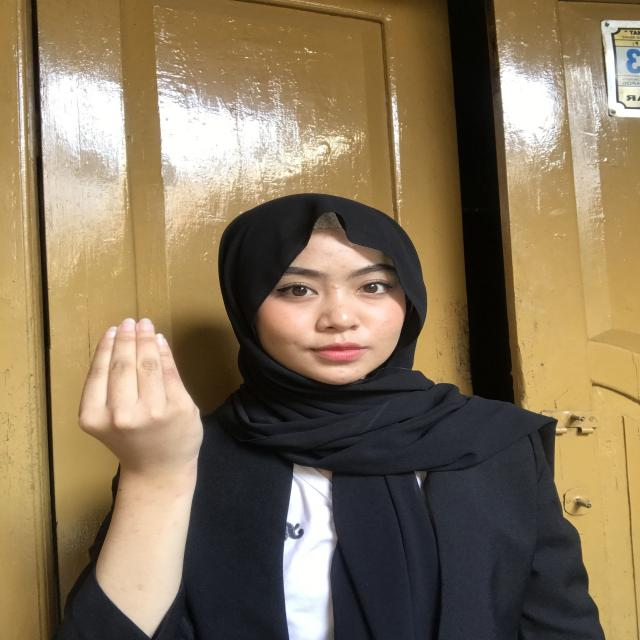kapan: (36, 296, 218, 472)
